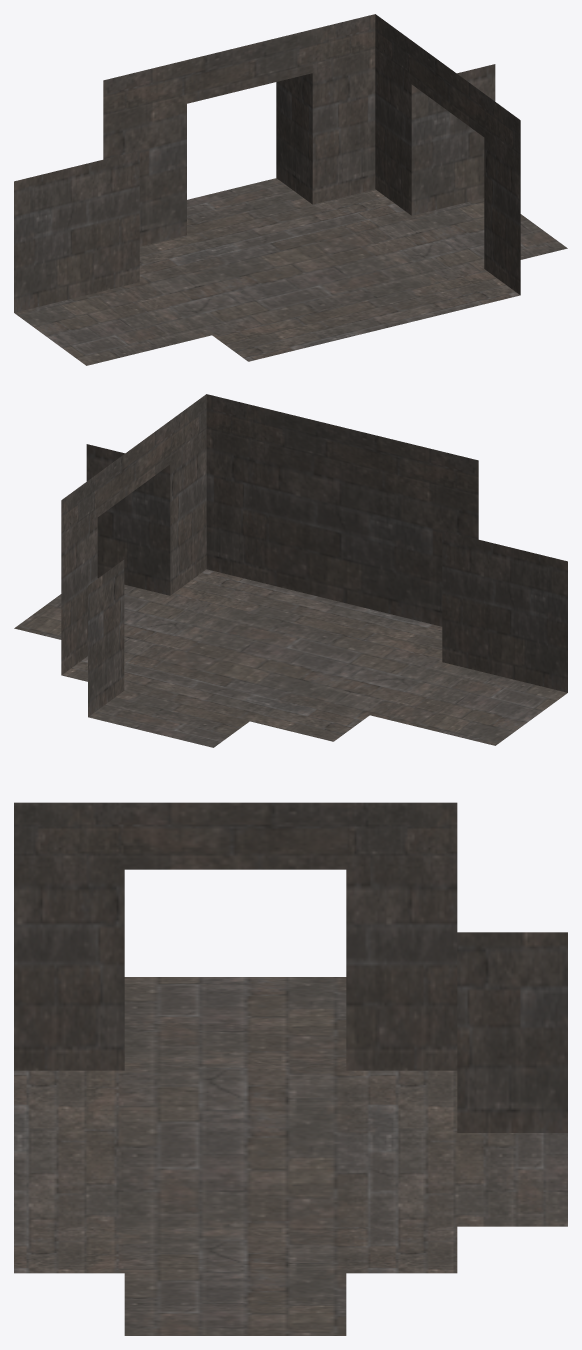
Rendered from room8.gltf.
3 renders of one model, top to bottom at view 1: azimuth 30°, elevation 25°; view 2: azimuth 150°, elevation 25°; view 3: azimuth 270°, elevation 25°, orthographic. The views are drawn at different scales.
Parts seen in each view (by area): view 1: Plane.005; view 2: Plane.005; view 3: Plane.005.
Part boxes in pixels (<box>): Plane.005: <box>14,14,567,365</box>; Plane.005: <box>14,394,567,747</box>; Plane.005: <box>14,802,567,1335</box>.
Bounding box in the file's own units: 11.5 × 4 × 7.5.
1 material, 1 textured.
